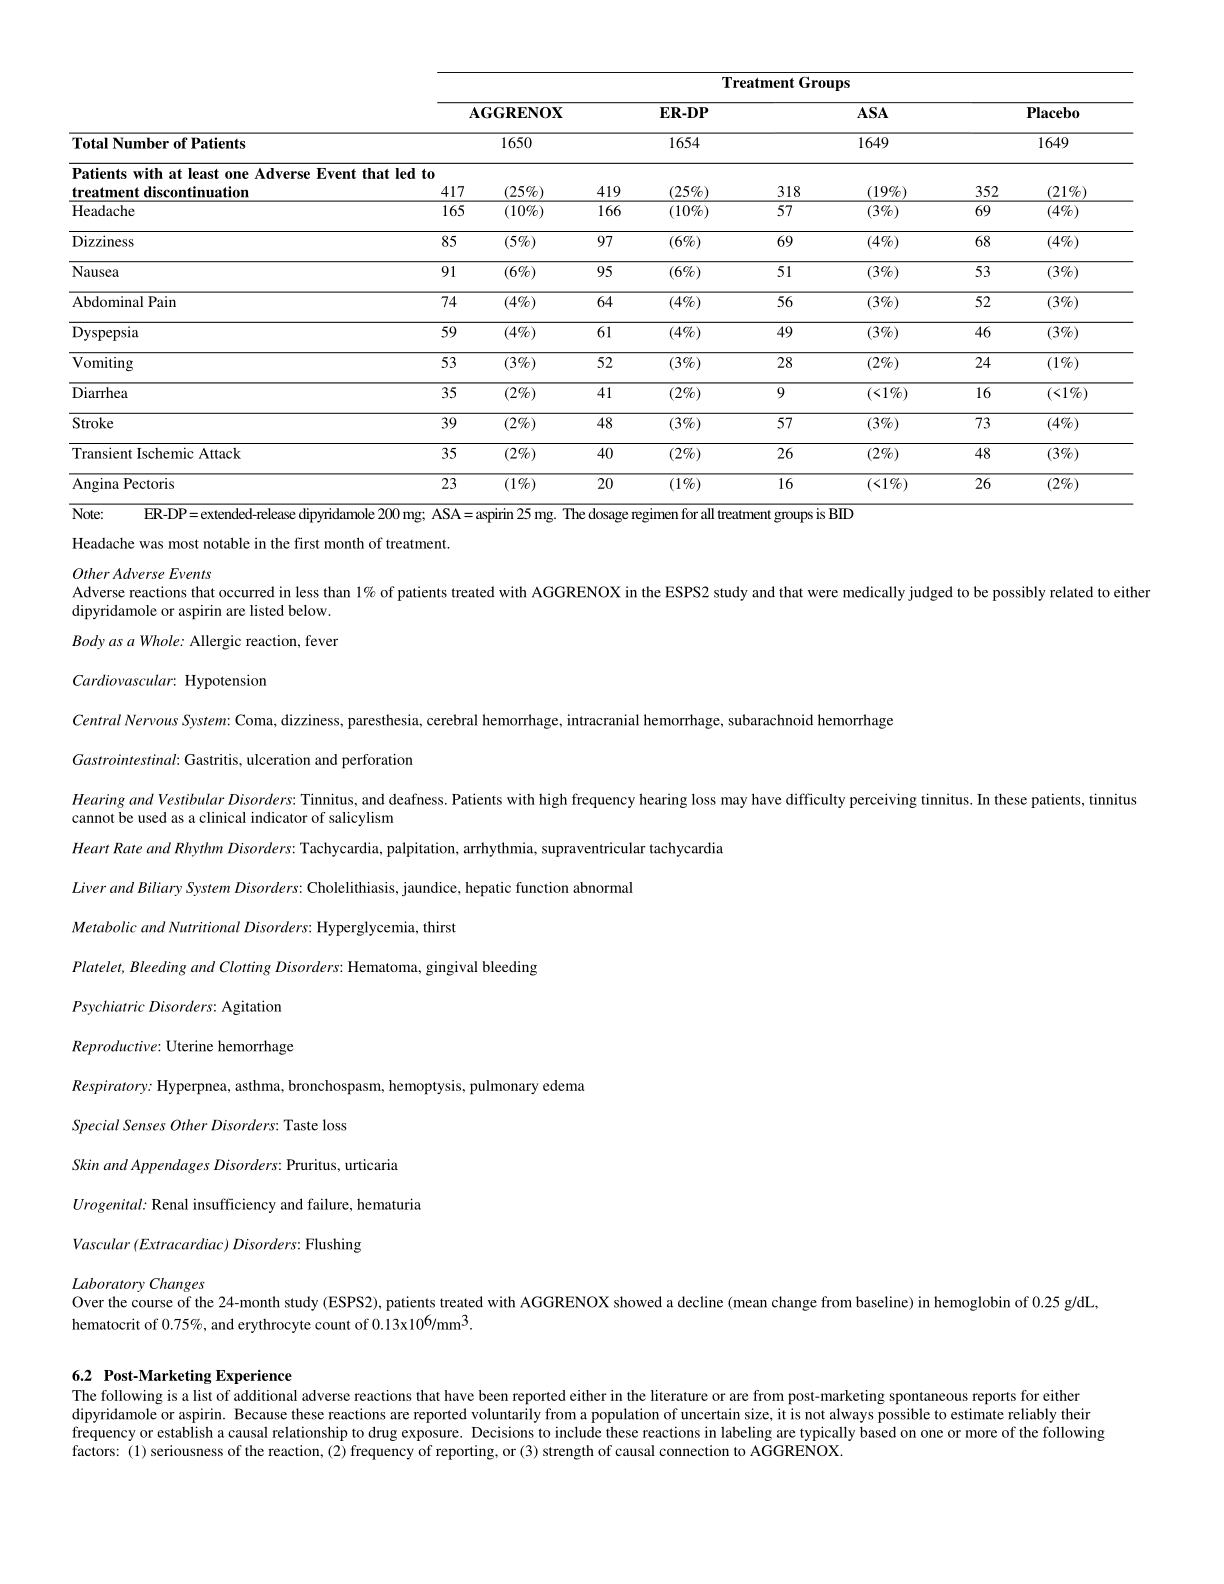partial_lined_merged_cells: (67, 67, 1135, 508)
